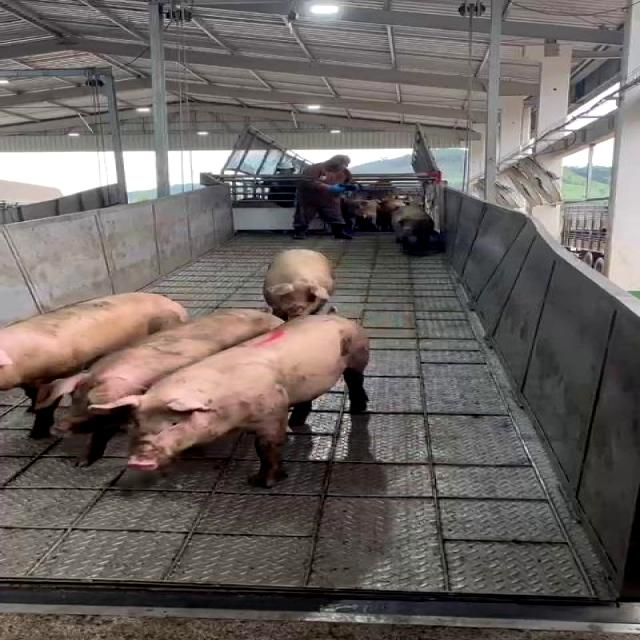pig: (103, 314, 369, 487), (37, 309, 282, 466), (0, 292, 188, 402), (264, 249, 335, 320), (392, 204, 440, 255), (30, 405, 54, 437)
